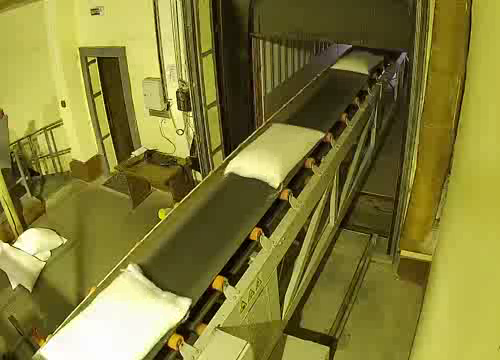bag: (32, 256, 200, 360), (214, 116, 332, 193), (327, 47, 392, 78)
